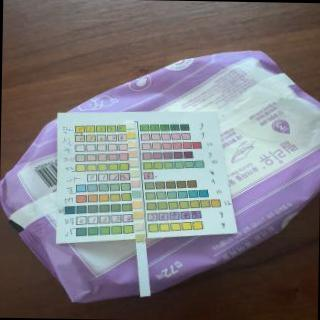mark: (134, 232, 146, 242), (134, 222, 145, 230), (134, 212, 144, 220), (130, 180, 140, 188), (128, 150, 138, 158), (132, 190, 141, 198), (128, 140, 137, 148), (126, 132, 136, 139), (132, 201, 140, 209), (130, 160, 138, 168), (126, 121, 134, 129), (131, 170, 140, 177)
